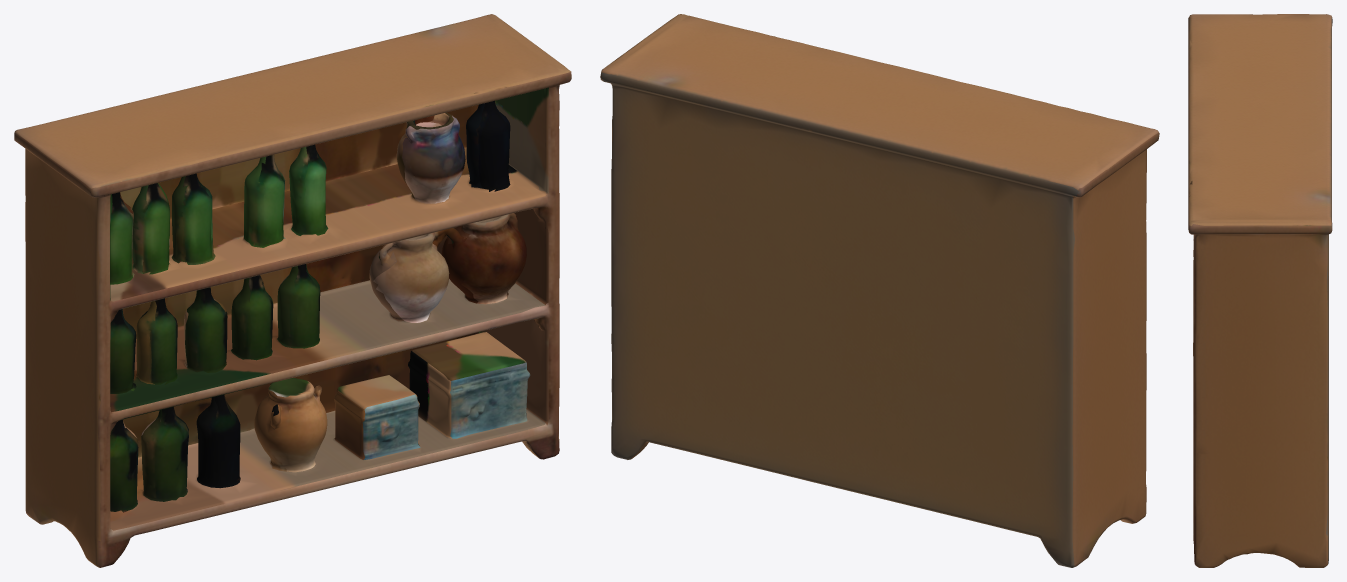
The model's file is estante.glb.
The picture shows the model from 3 angles, left to right: view 1: azimuth 30°, elevation 25°; view 2: azimuth 150°, elevation 25°; view 3: azimuth 270°, elevation 25°; orthographic projection. The views are drawn at different scales.
Parts seen in each view (by area): view 1: temp_mesh.ply; view 2: temp_mesh.ply; view 3: temp_mesh.ply.
Part boxes in pixels (box(x1,y1,x2,y2)): temp_mesh.ply: box(14, 14, 571, 567); temp_mesh.ply: box(600, 14, 1159, 567); temp_mesh.ply: box(1188, 14, 1332, 567).
Size of the model in its own units: 2.6 by 2 by 0.75.
Materials: 1 (1 with a texture image).
